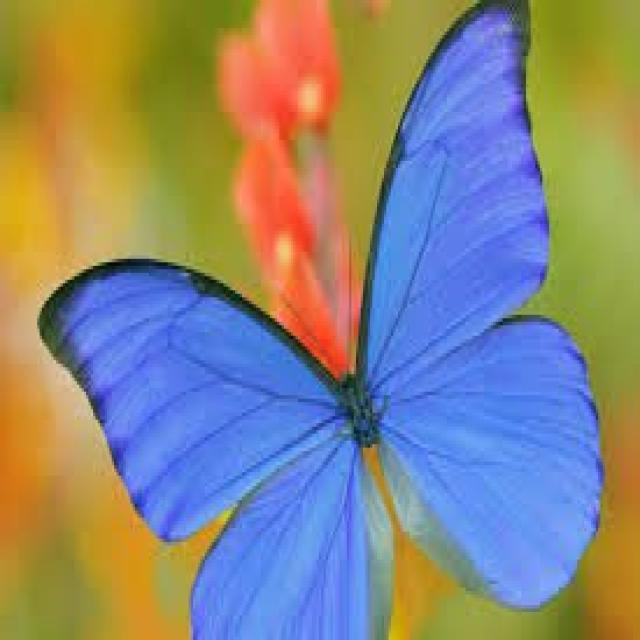butterfly: (94, 157, 577, 638)
